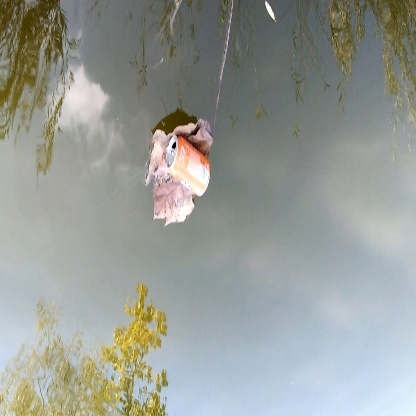bottle: (156, 134, 222, 201)
